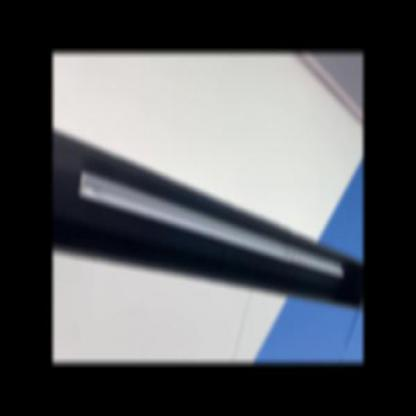light_off: (71, 132, 346, 292)
